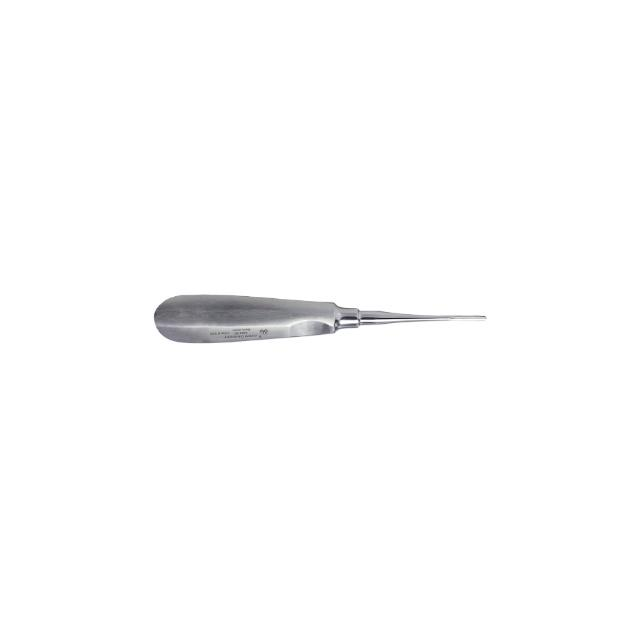botador: (152, 294, 488, 347)
